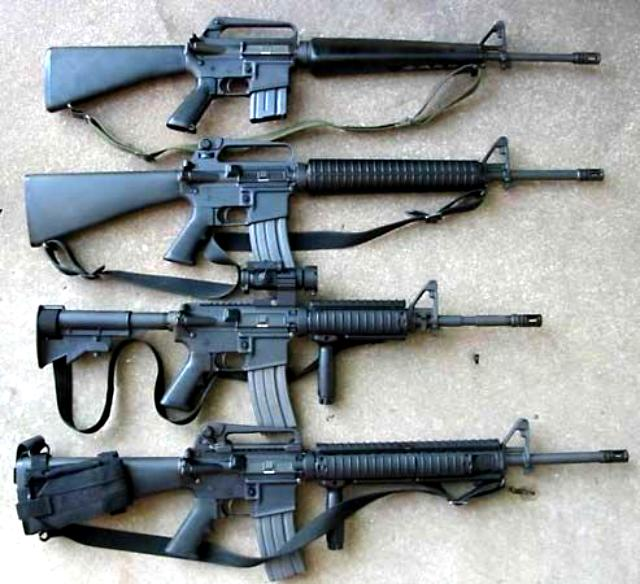rifle: (16, 437, 632, 579), (19, 287, 578, 429), (20, 145, 618, 272), (40, 14, 620, 132)
